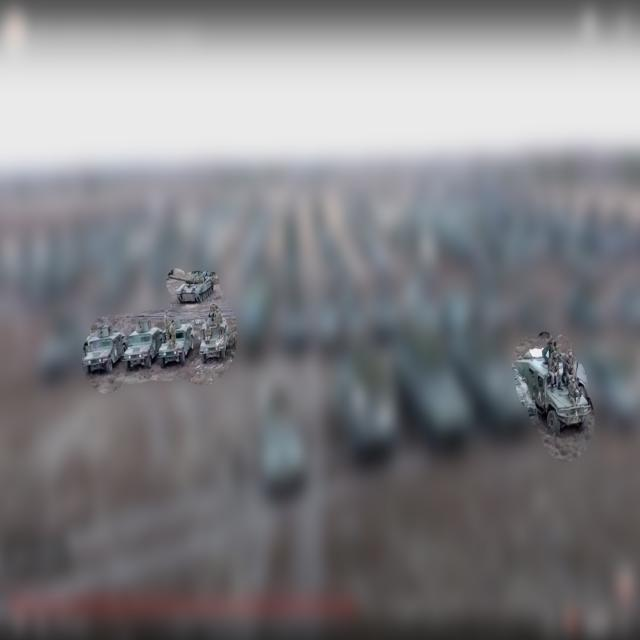tank: (168, 270, 214, 304)
